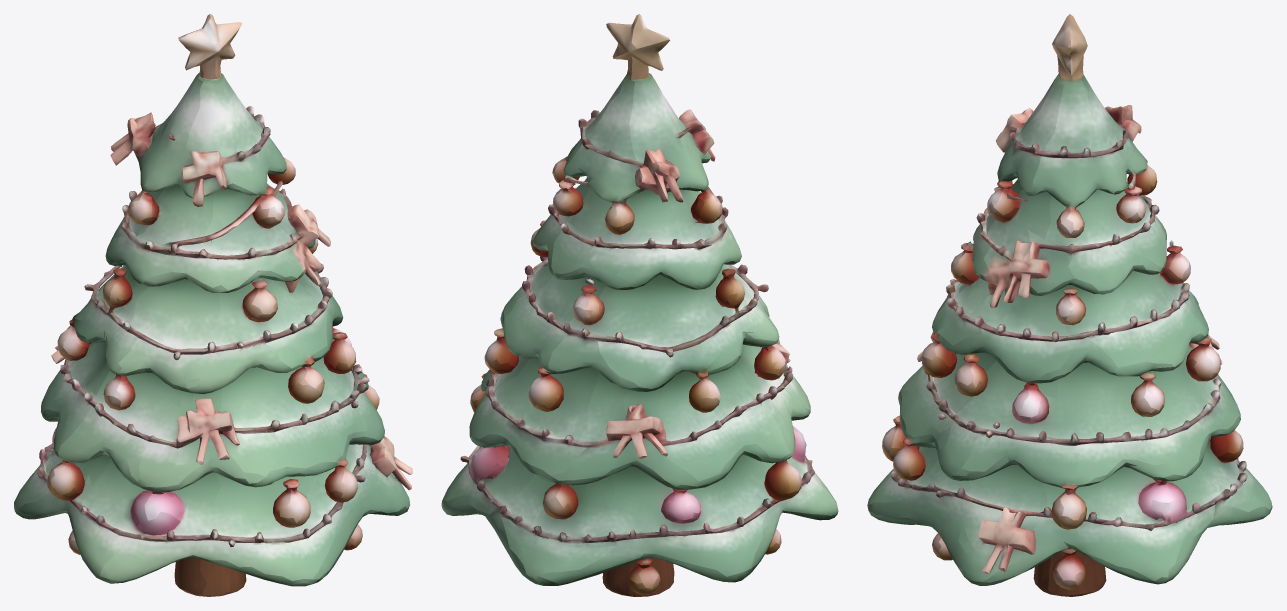
File: ornate-christmas-tree.glb
The picture shows the model from 3 angles, left to right: view 1: azimuth 30°, elevation 25°; view 2: azimuth 150°, elevation 25°; view 3: azimuth 270°, elevation 25°; orthographic projection.
Visible parts, largest first — view 1: world; view 2: world; view 3: world.
Boxes of the visible parts, left/top/right/bottom form: world: left=14, top=14, right=412, bottom=596; world: left=441, top=14, right=838, bottom=596; world: left=867, top=14, right=1272, bottom=596.
Bounding box in the file's own units: 0.5454 × 0.9 × 0.5807.
1 material, 1 textured.
